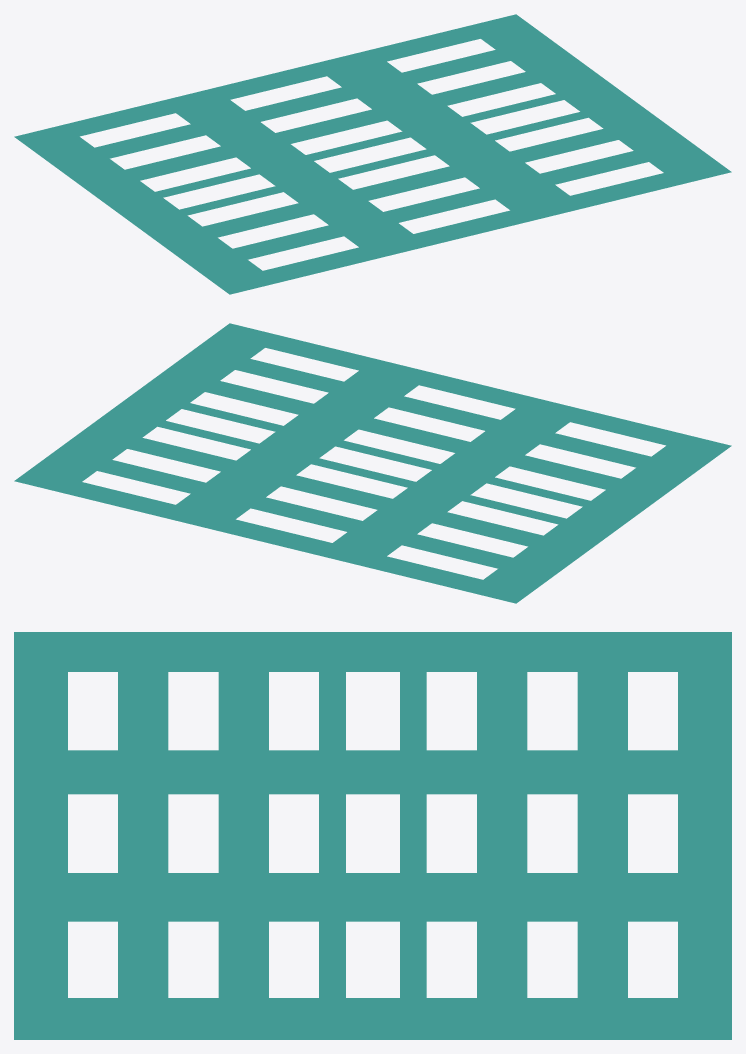
The model's file is AlleyGutter_1.fbx.
3 views of the same model, one above another, from view 1: azimuth 30°, elevation 25°; view 2: azimuth 150°, elevation 25°; view 3: azimuth 270°, elevation 25° (orthographic). The views are drawn at different scales.
Parts seen in each view (by area): view 1: AlleyGutter_1; view 2: AlleyGutter_1; view 3: AlleyGutter_1.
Boxes of the visible parts, x1=… form: AlleyGutter_1: x1=14, y1=14, x2=731, y2=294; AlleyGutter_1: x1=14, y1=323, x2=731, y2=603; AlleyGutter_1: x1=14, y1=632, x2=731, y2=1039.
Bounding box in the file's own units: 47.78 × 0 × 35.55.
